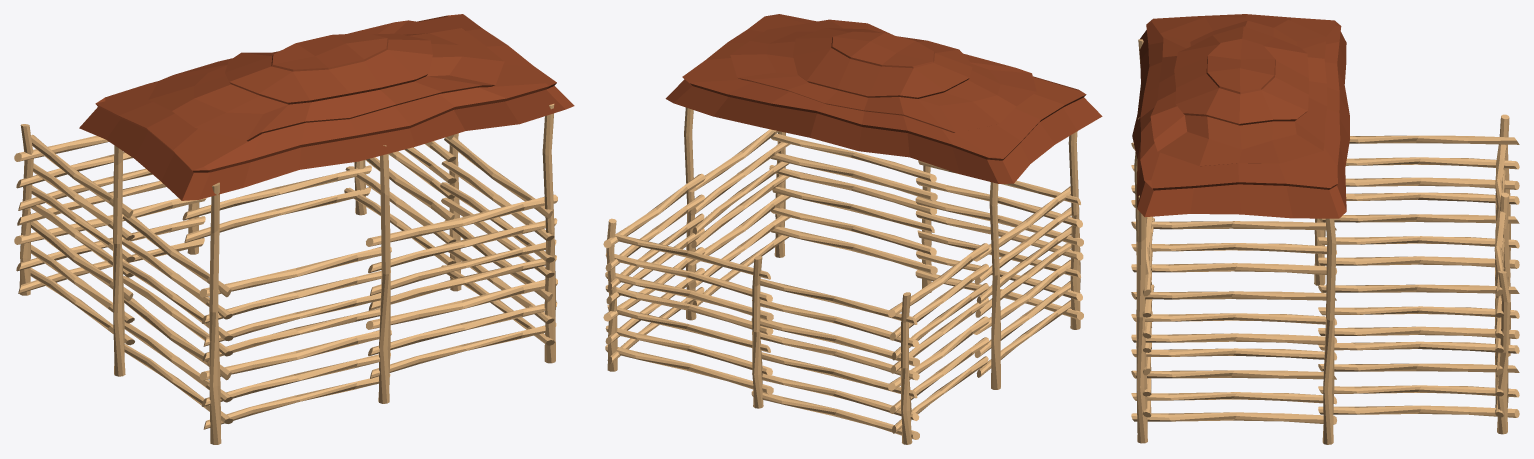
File: galinheiro.fbx
3 renders of one model, left to right at view 1: azimuth 30°, elevation 25°; view 2: azimuth 150°, elevation 25°; view 3: azimuth 270°, elevation 25°, orthographic. The views are drawn at different scales.
Visible parts, largest first — view 1: Plane.003; view 2: Plane.003; view 3: Plane.003.
Boxes of the visible parts, x1,y1,x2,y2 form: Plane.003: (14,14,574,444); Plane.003: (603,14,1102,444); Plane.003: (1131,14,1519,444).
Size of the model in its own units: 348 by 267 by 312.
